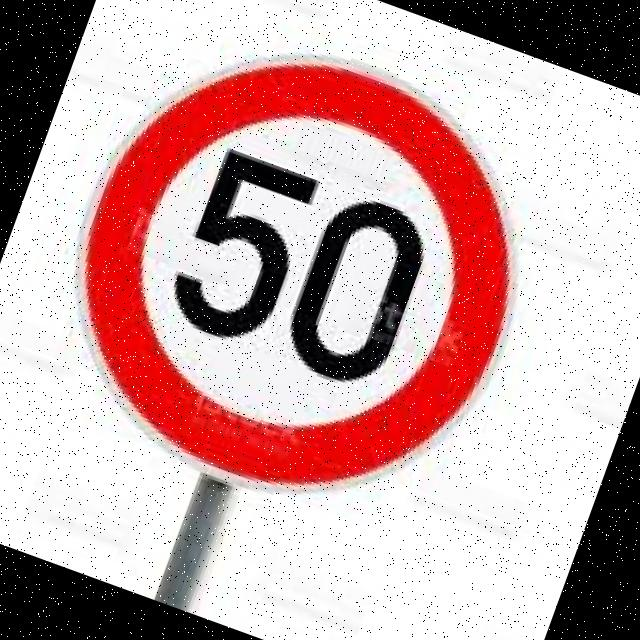speed_limit_50: (4, 0, 589, 559)
